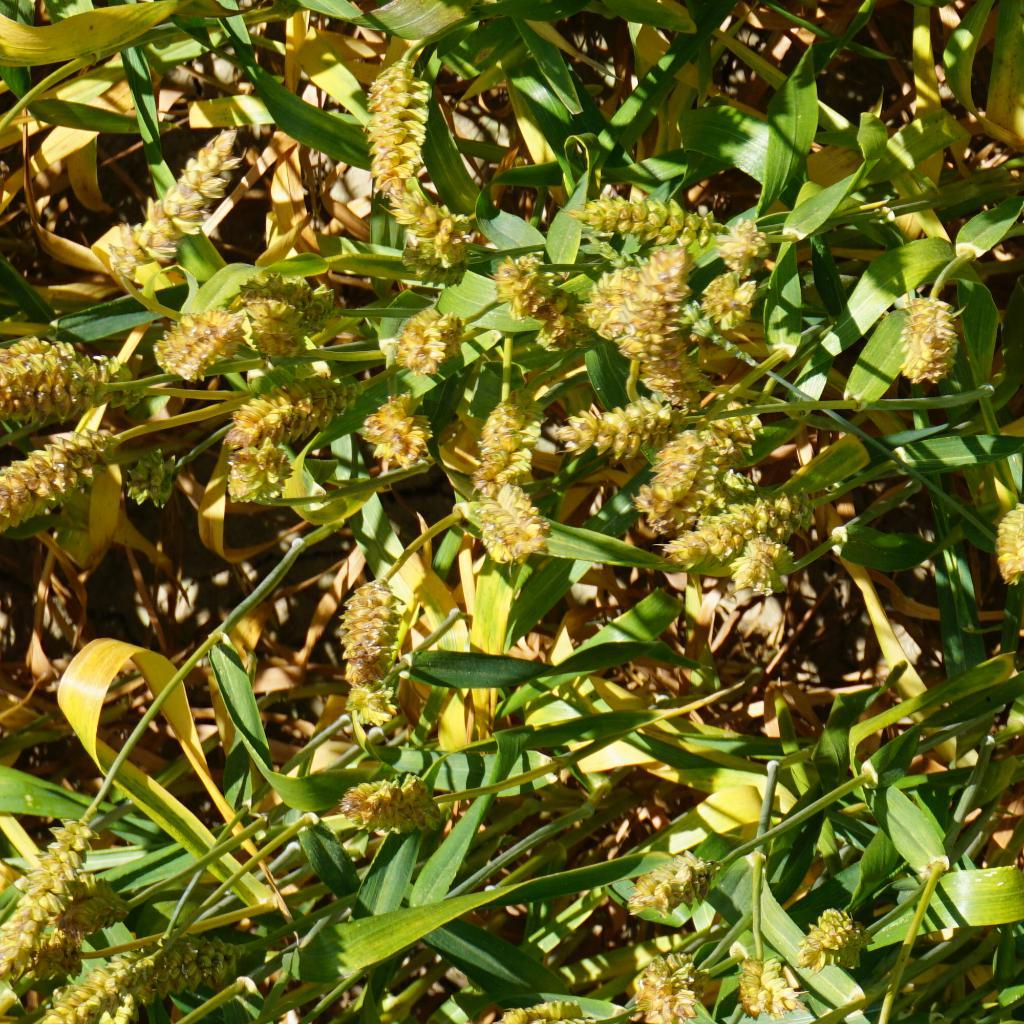0-0: (101, 125, 245, 283), (0, 814, 86, 980), (220, 370, 367, 454), (355, 58, 442, 197), (233, 265, 344, 347), (0, 331, 103, 417), (462, 473, 561, 560), (575, 186, 706, 251), (128, 929, 239, 1003), (332, 772, 460, 834), (662, 494, 814, 546), (159, 290, 242, 385), (0, 448, 111, 516), (888, 281, 959, 385), (320, 572, 394, 670), (349, 393, 435, 471), (379, 299, 473, 370), (459, 401, 540, 483), (212, 438, 301, 511), (384, 176, 468, 251), (550, 403, 673, 454), (808, 900, 881, 978), (14, 924, 90, 993), (635, 857, 712, 924), (113, 439, 183, 512), (45, 881, 140, 934), (686, 263, 760, 329), (619, 251, 667, 352), (489, 242, 553, 316), (733, 537, 804, 601), (340, 680, 424, 734), (736, 953, 811, 1013), (246, 287, 307, 359), (626, 439, 701, 497), (694, 390, 778, 439), (60, 965, 131, 1022), (643, 948, 696, 1024), (983, 493, 1024, 591), (709, 221, 772, 272), (635, 347, 700, 394), (408, 241, 470, 283), (587, 262, 623, 332), (529, 301, 573, 349)
